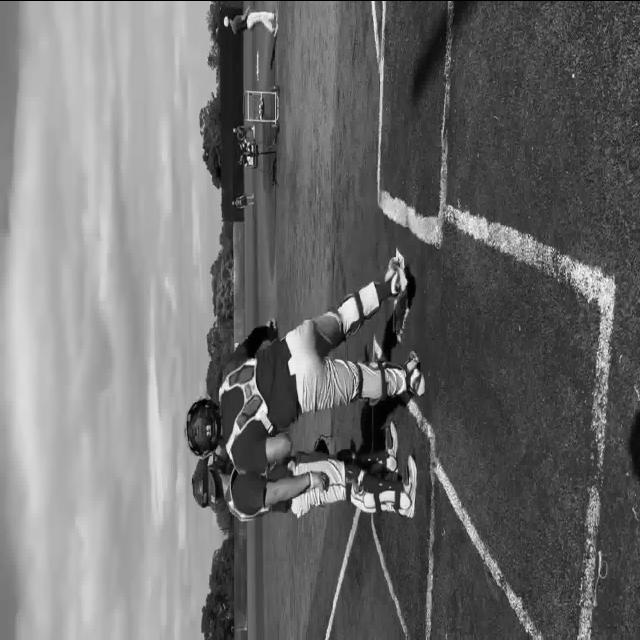base: (394, 250, 409, 336)
baseball: (206, 152, 208, 156)
shoe: (397, 454, 417, 518), (403, 350, 425, 396), (384, 257, 406, 300), (384, 420, 398, 472), (272, 25, 278, 37), (274, 8, 278, 22)
